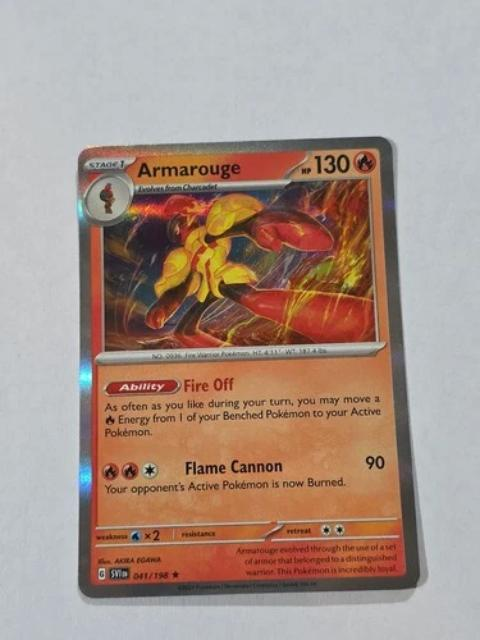Card: (74, 129, 428, 607)
Name: (136, 154, 243, 183)
